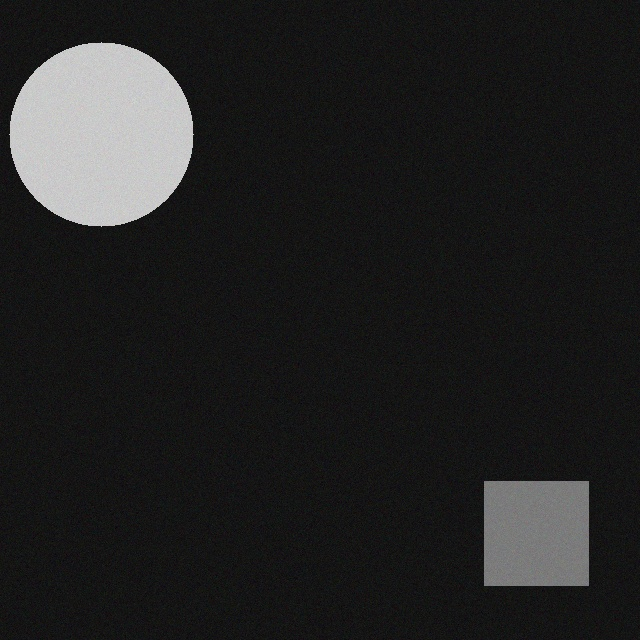circle: (15, 33, 199, 217)
square: (490, 472, 594, 576)
